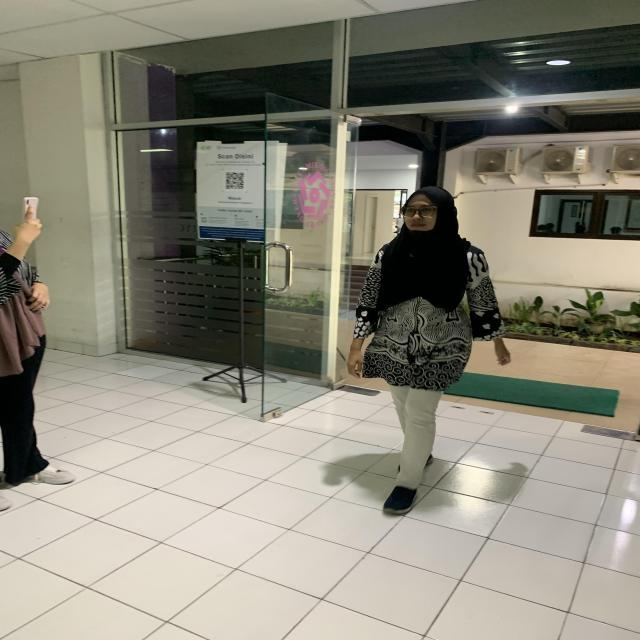hairnet: (396, 186, 460, 246)
